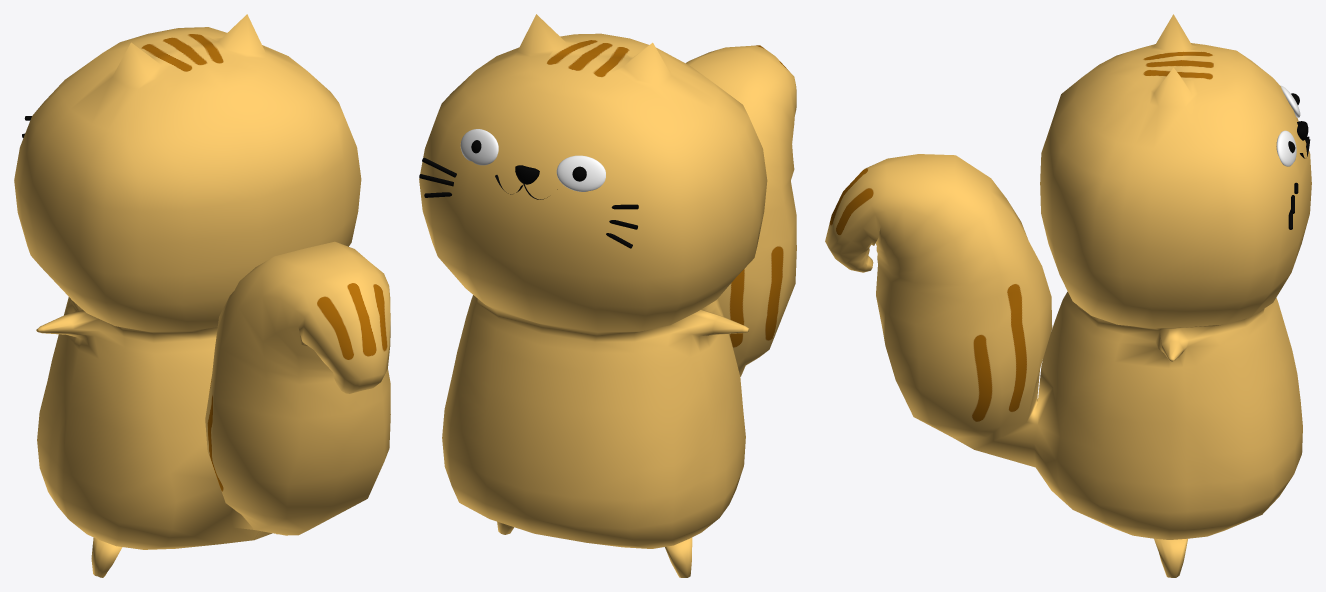
File: squirrel.fbx
3 views of the same model, side by side, from view 1: azimuth 30°, elevation 25°; view 2: azimuth 150°, elevation 25°; view 3: azimuth 270°, elevation 25° (orthographic). The views are drawn at different scales.
Visible parts, largest first — view 1: Plane; view 2: Plane, Sphere.001, Sphere; view 3: Plane.
Boxes of the visible parts, bbox=[...] form: Plane: bbox=[14, 14, 390, 577]; Plane: bbox=[419, 14, 796, 577]; Sphere.001: bbox=[556, 155, 605, 191]; Sphere: bbox=[460, 129, 498, 165]; Plane: bbox=[825, 14, 1311, 577].
Bounding box in the file's own units: 57.55 × 94.75 × 84.31.
Materials: 3 (1 with a texture image).
